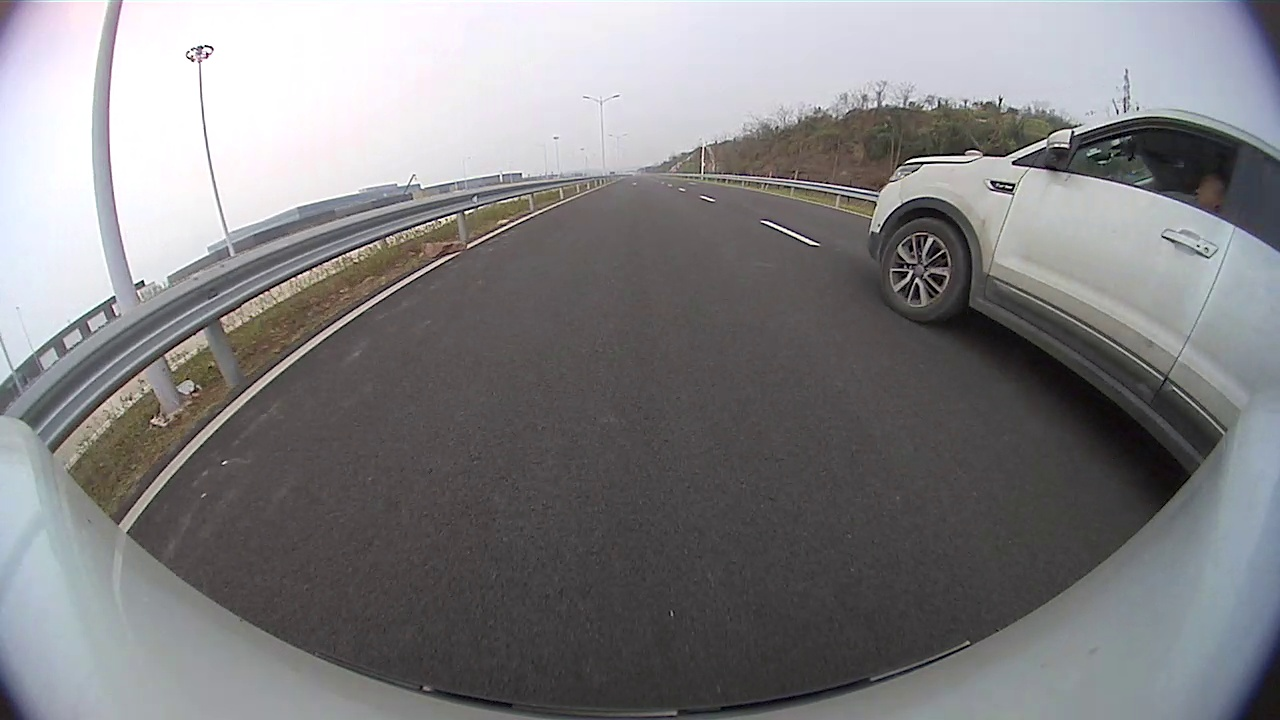car: (868, 108, 1278, 477)
front: (876, 216, 972, 326)
